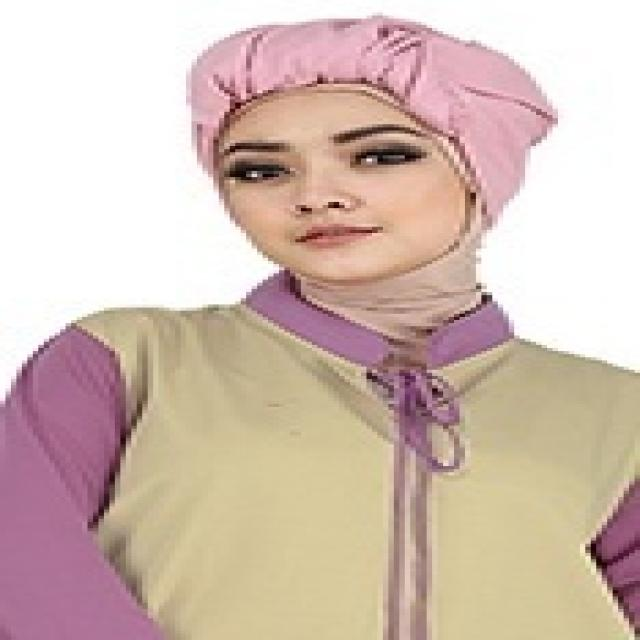head: (180, 23, 544, 291)
